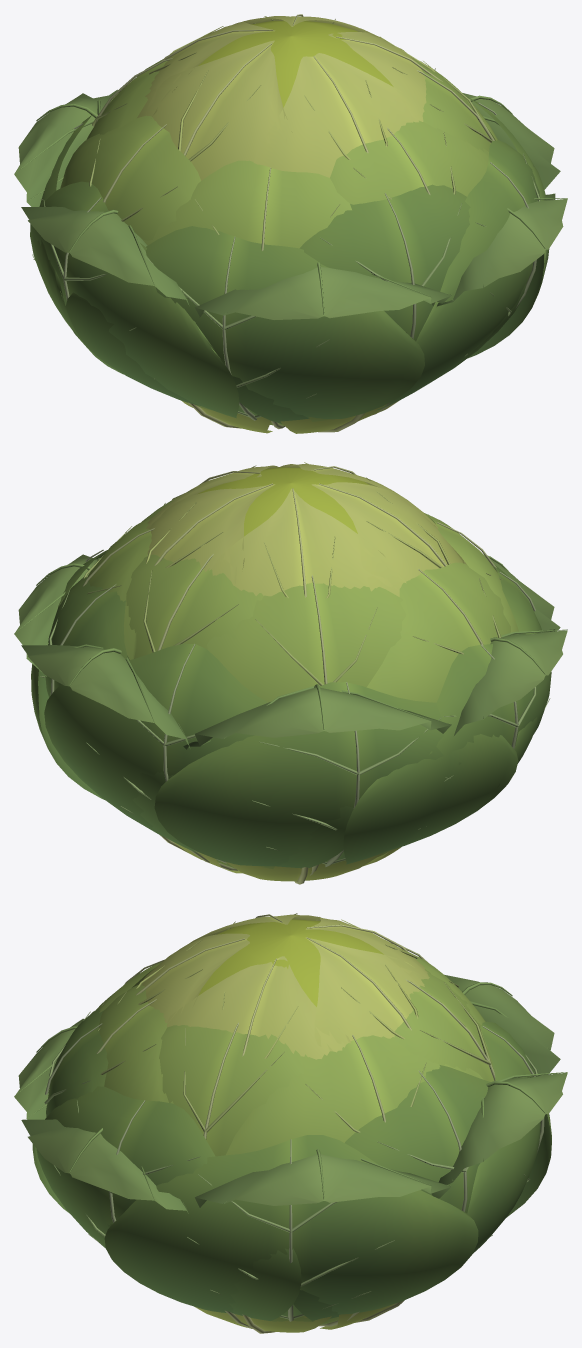
The model's file is cabbage.glb.
The picture shows the model from 3 angles, top to bottom: view 1: azimuth 30°, elevation 25°; view 2: azimuth 150°, elevation 25°; view 3: azimuth 270°, elevation 25°; orthographic projection.
Visible parts, largest first — view 1: Plant; view 2: Plant; view 3: Plant.
Part boxes in pixels (x1,y1,x2,y2): Plant: [14, 14, 567, 433]; Plant: [14, 462, 567, 884]; Plant: [14, 913, 567, 1333].
Size of the model in its own units: 0.3636 by 0.2751 by 0.3644.
